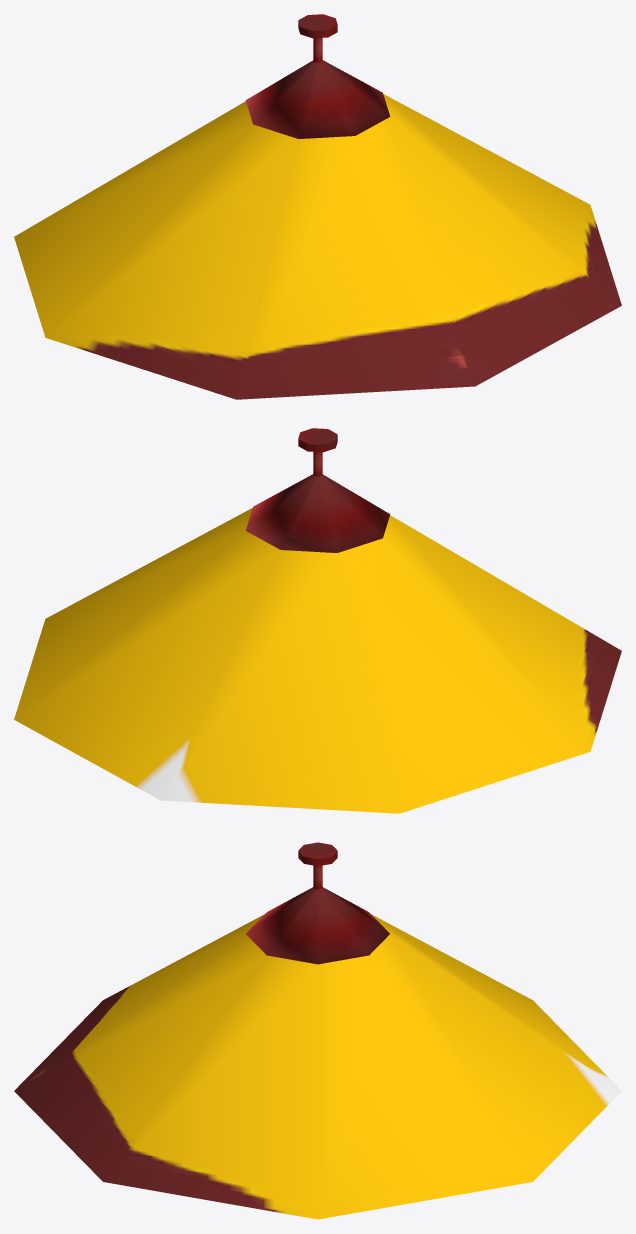
File: lamp_2.obj
The picture shows the model from 3 angles, top to bottom: view 1: azimuth 30°, elevation 25°; view 2: azimuth 150°, elevation 25°; view 3: azimuth 270°, elevation 25°; orthographic projection. The views are drawn at different scales.
Parts seen in each view (by area): view 1: light, lamp_2_ncl1_1; view 2: light, lamp_2_ncl1_1; view 3: light, lamp_2_ncl1_1.
Part boxes in pixels (x1=…): light: x1=14, y1=94, x2=621, y2=399; lamp_2_ncl1_1: x1=245, y1=14, x2=390, y2=138; light: x1=14, y1=508, x2=621, y2=813; lamp_2_ncl1_1: x1=245, y1=428, x2=390, y2=552; light: x1=14, y1=914, x2=621, y2=1219; lamp_2_ncl1_1: x1=246, y1=842, x2=389, y2=964.
Size of the model in its own units: 2.29 by 1 by 2.29.
Materials: 2 (2 with a texture image).
